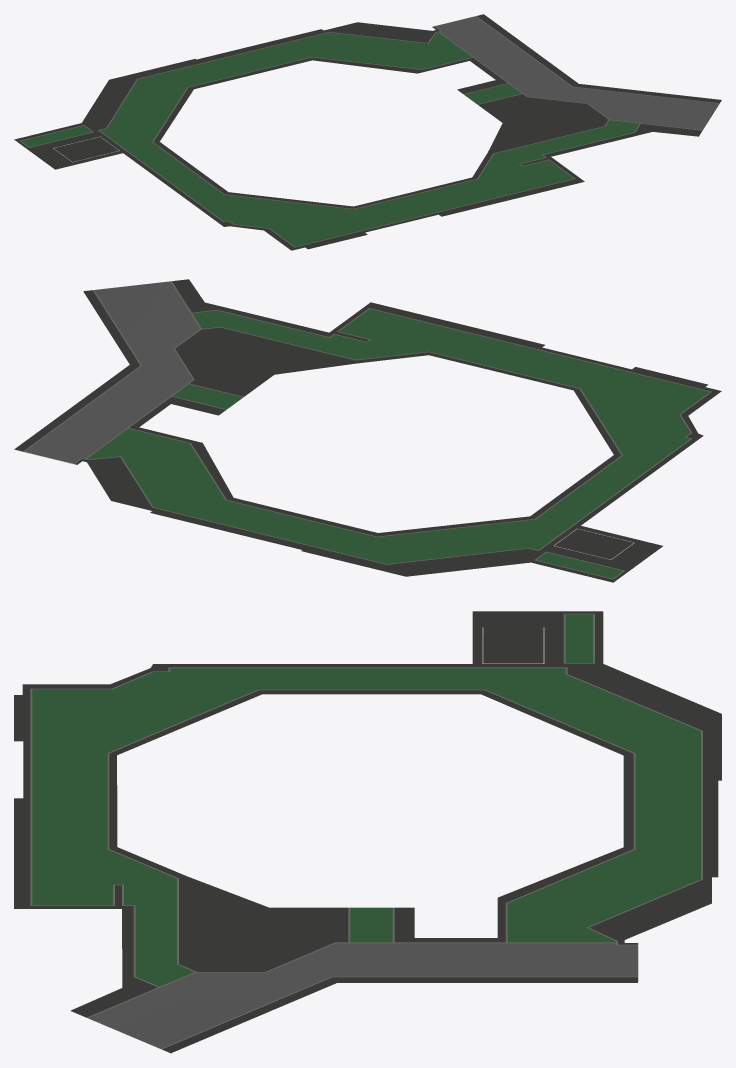
The model's file is SM_H_Building_Tide_MedicalRoom_13_ATLAS.fbx.
3 views of the same model, one above another, from view 1: azimuth 30°, elevation 25°; view 2: azimuth 150°, elevation 25°; view 3: azimuth 270°, elevation 25° (orthographic). The views are drawn at different scales.
Visible parts, largest first — view 1: SM_H_Building_Tide_MedicalRoom_13_ATLAS_LOD0; view 2: SM_H_Building_Tide_MedicalRoom_13_ATLAS_LOD0; view 3: SM_H_Building_Tide_MedicalRoom_13_ATLAS_LOD0.
Part boxes in pixels (box(x1,y1,x2,y2)): SM_H_Building_Tide_MedicalRoom_13_ATLAS_LOD0: box(14, 14, 721, 250); SM_H_Building_Tide_MedicalRoom_13_ATLAS_LOD0: box(14, 279, 721, 582); SM_H_Building_Tide_MedicalRoom_13_ATLAS_LOD0: box(14, 611, 721, 1053).
Size of the model in its own units: 9062 by 6138 by 3.84.
